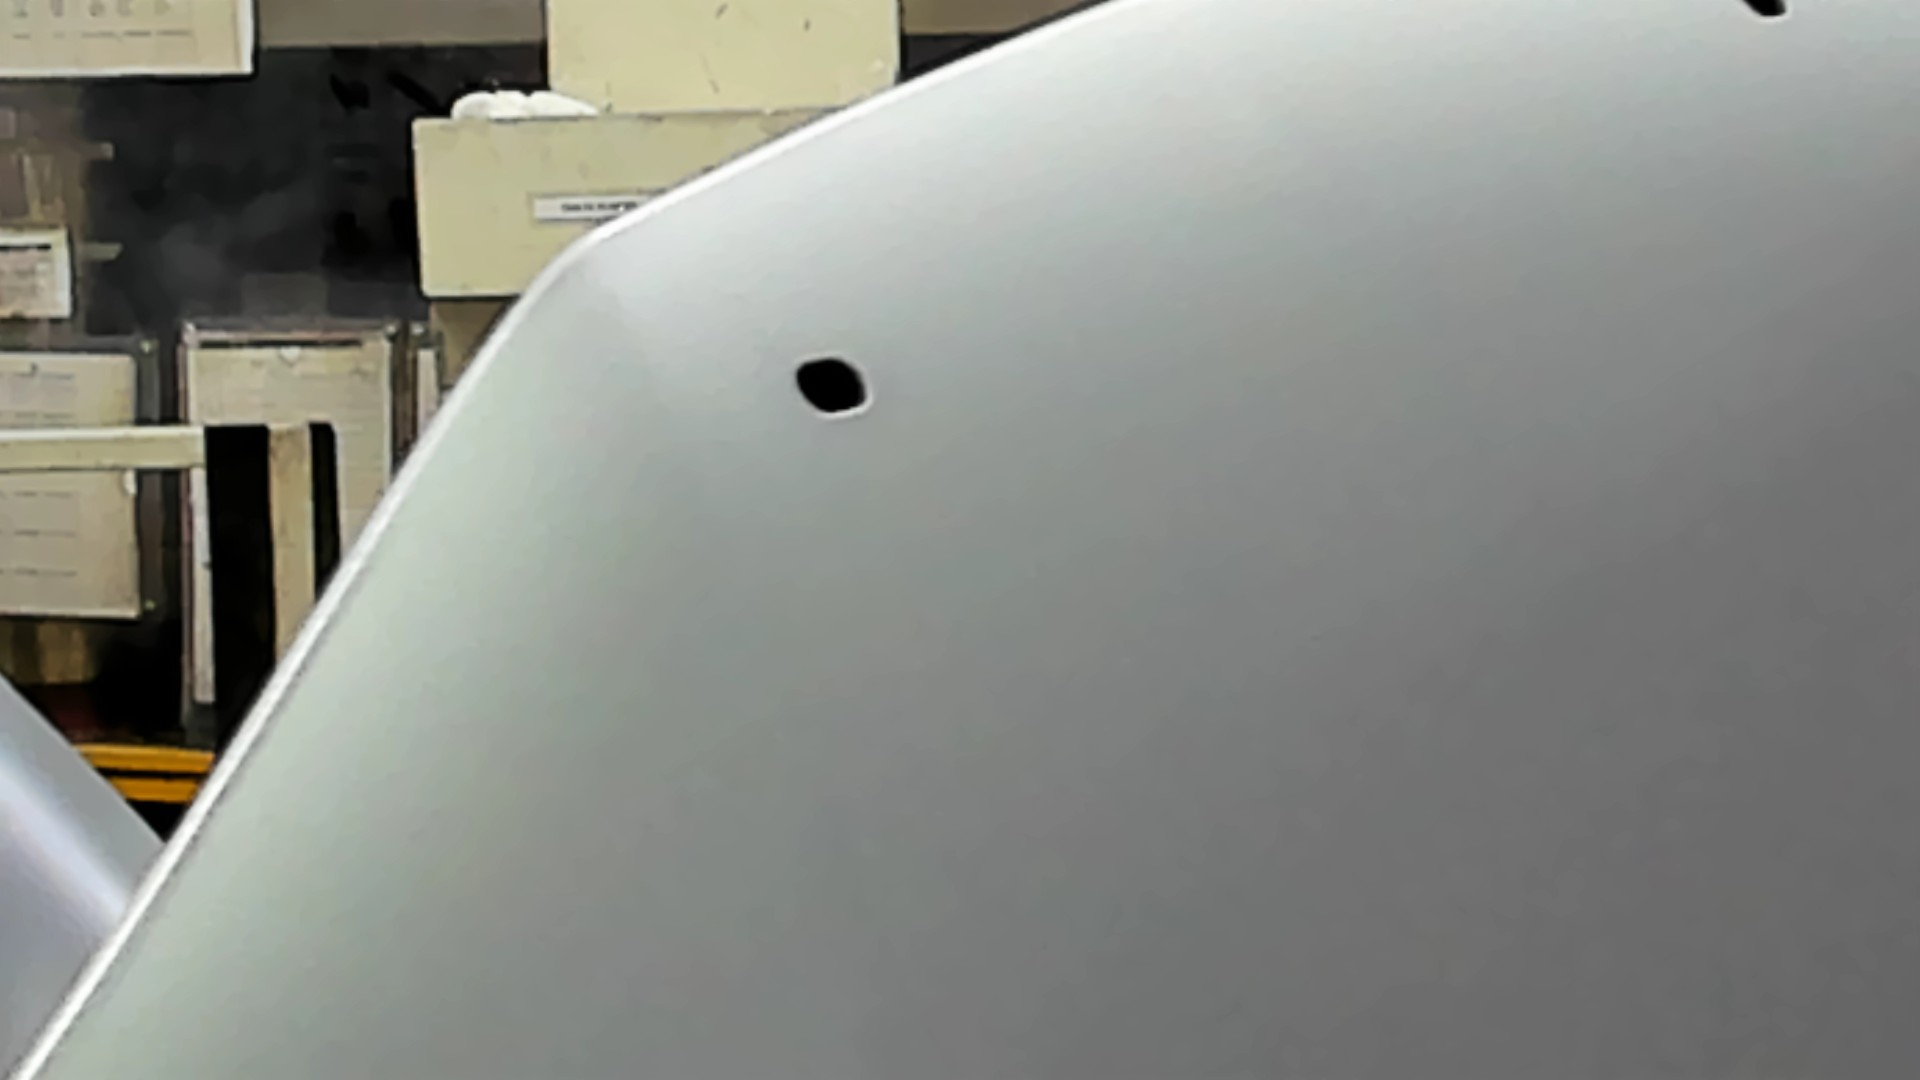amorfo: (789, 351, 873, 417), (1735, 1, 1800, 29)
